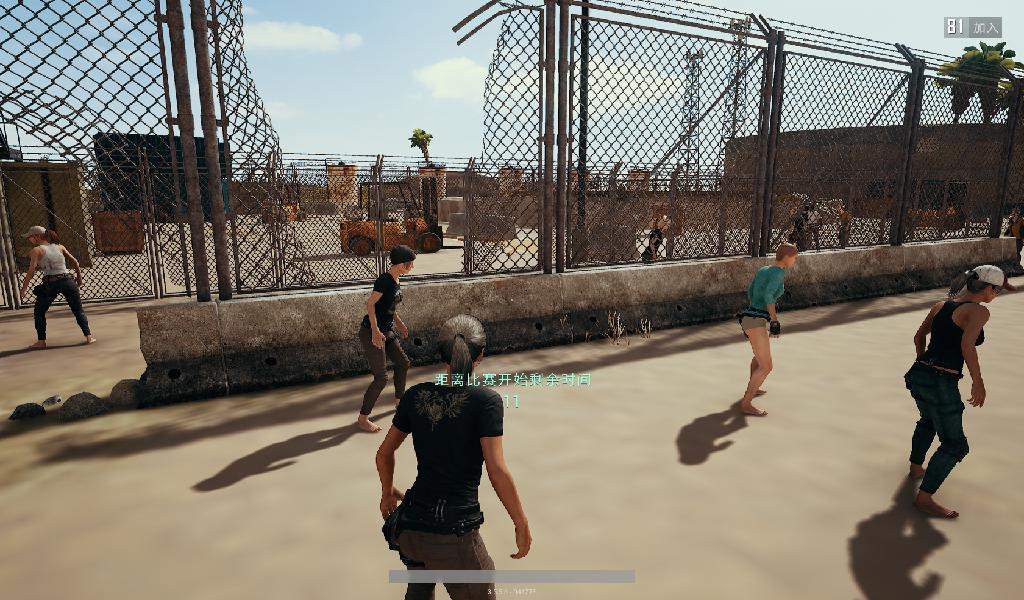Target Person: (377, 315, 533, 600), (904, 264, 1007, 520), (356, 246, 418, 440), (740, 243, 800, 419), (17, 225, 96, 346), (642, 211, 669, 276), (833, 200, 853, 258)
